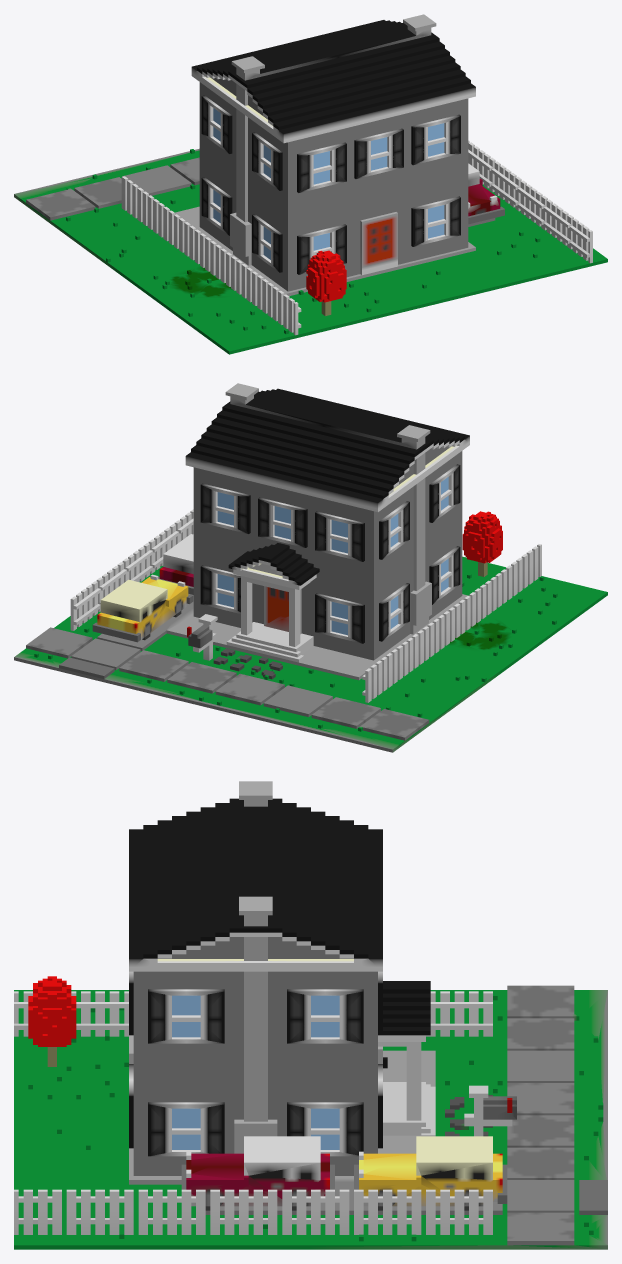
Rendered from scene_big_house.dae.
The picture shows the model from 3 angles, top to bottom: view 1: azimuth 30°, elevation 25°; view 2: azimuth 150°, elevation 25°; view 3: azimuth 270°, elevation 25°; orthographic projection. The views are drawn at different scales.
Visible parts, largest first — view 1: scene_big_house; view 2: scene_big_house; view 3: scene_big_house.
Part boxes in pixels (x1=…): scene_big_house: x1=14, y1=14, x2=607, y2=354; scene_big_house: x1=14, y1=383, x2=607, y2=752; scene_big_house: x1=14, y1=781, x2=607, y2=1249.
Size of the model in its own units: 12.6 by 12.4 by 6.4.
